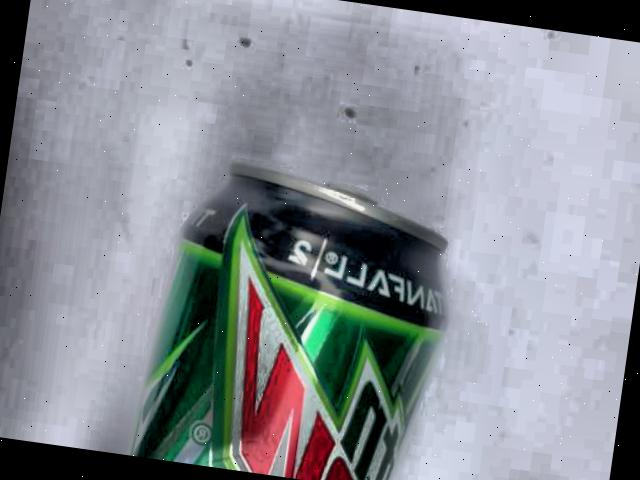Bottles: (121, 116, 495, 480)
